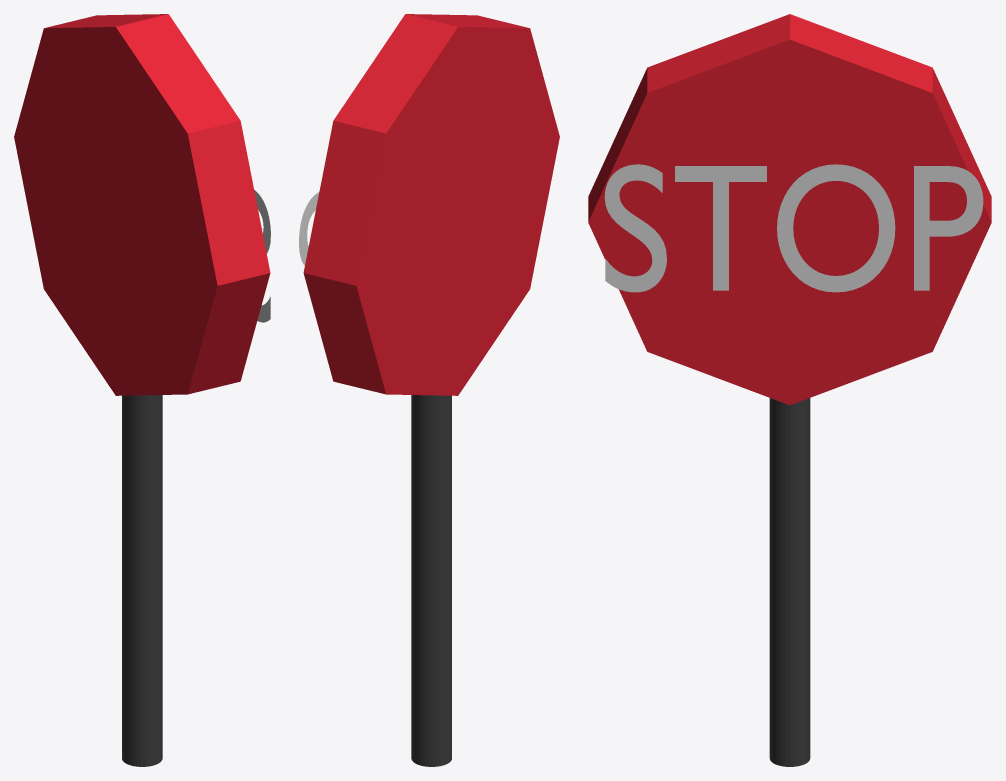
Rendered from stop_sign.fbx.
The picture shows the model from 3 angles, left to right: view 1: azimuth 30°, elevation 25°; view 2: azimuth 150°, elevation 25°; view 3: azimuth 270°, elevation 25°; orthographic projection.
Parts seen in each view (by area): view 1: Cylinder.001, Cylinder, Text; view 2: Cylinder.001, Cylinder, Text; view 3: Cylinder.001, Text, Cylinder.
Boxes of the visible parts, x1,y1,x2,y2 form: Cylinder.001: [14, 14, 270, 395]; Cylinder: [122, 395, 162, 766]; Text: [254, 190, 270, 322]; Cylinder.001: [303, 14, 559, 395]; Cylinder: [411, 395, 451, 766]; Text: [299, 192, 319, 265]; Cylinder.001: [588, 14, 991, 405]; Text: [604, 164, 983, 292]; Cylinder: [769, 398, 810, 766].
Size of the model in its own units: 35 by 400 by 200.
